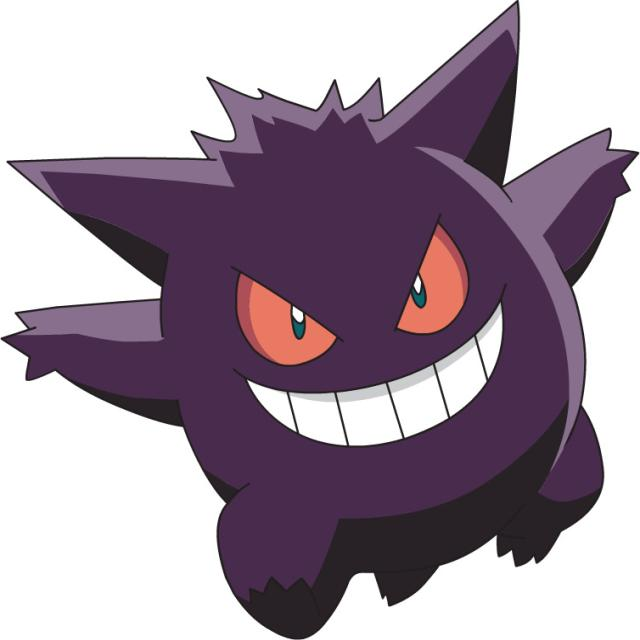Gengar: (150, 60, 592, 608)
